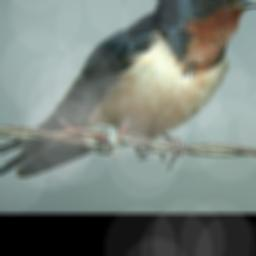Swallow: (0, 0, 256, 178)
